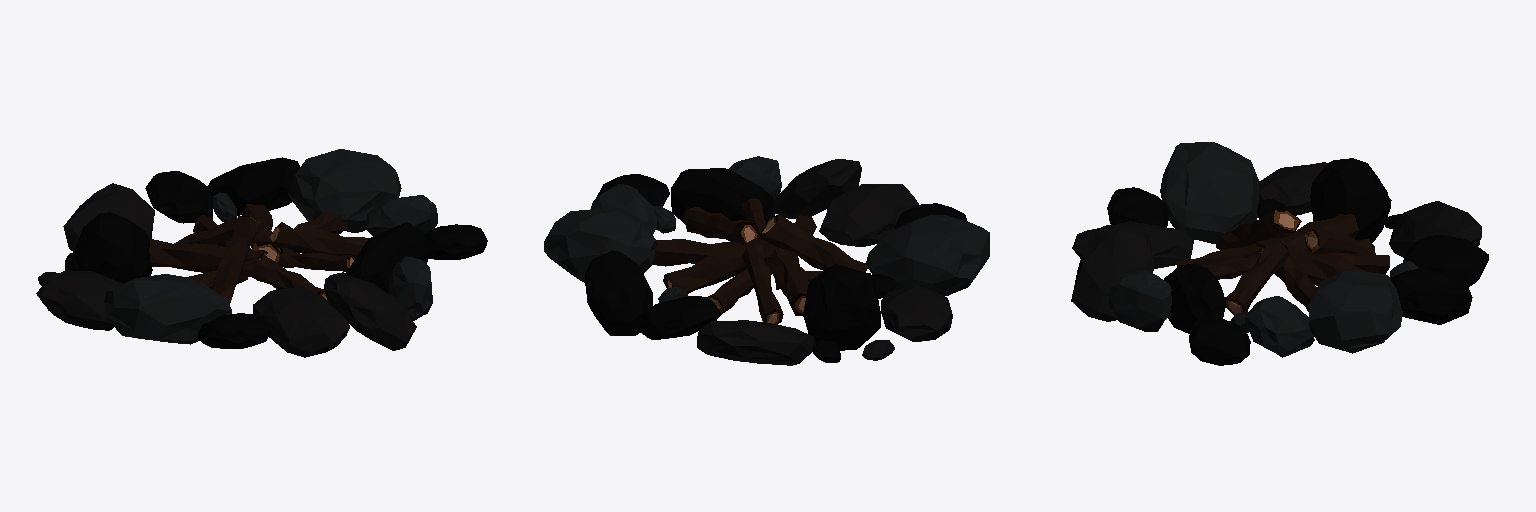
Rendered from fireplace3.obj.
The picture shows the model from 3 angles: view 1: azimuth 30°, elevation 25°; view 2: azimuth 150°, elevation 25°; view 3: azimuth 270°, elevation 25°; orthographic projection.
Bounding box in the file's own units: 11.72 × 2.42 × 10.78.